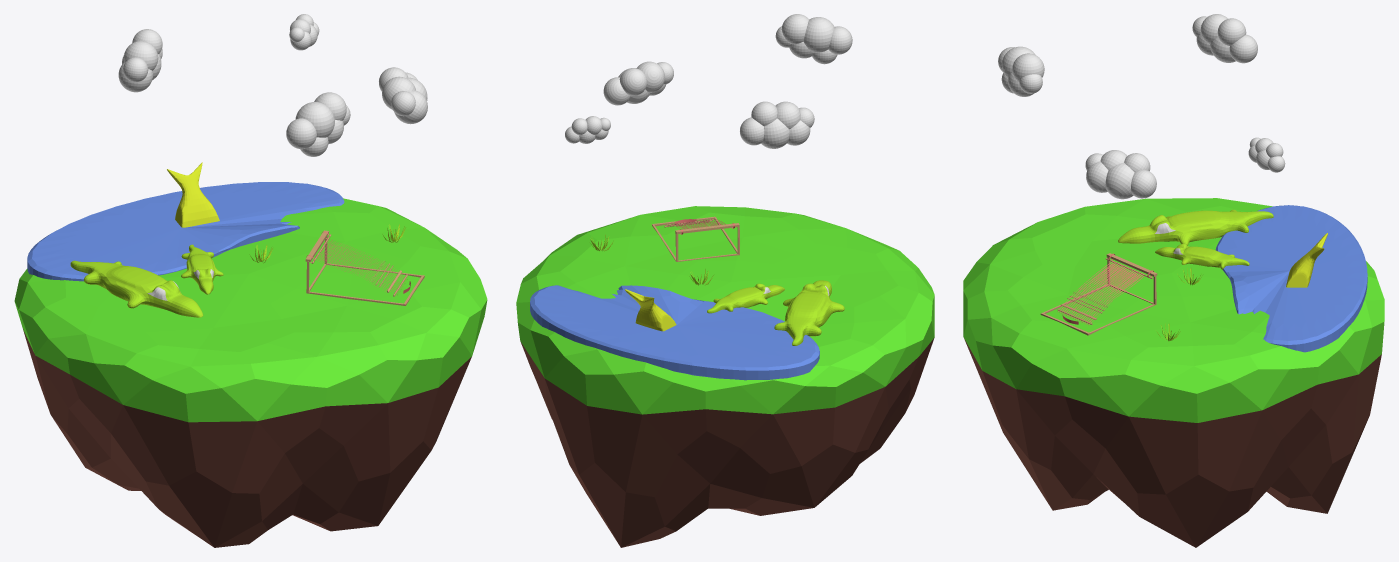
Rendered from Weaver Island.fbx.
The picture shows the model from 3 angles, left to right: view 1: azimuth 30°, elevation 25°; view 2: azimuth 150°, elevation 25°; view 3: azimuth 270°, elevation 25°; orthographic projection. The views are drawn at different scales.
Visible parts, largest first — view 1: Island.003, Cylinder, Cube.002, Cloud.006, Cloud.010, Cloud.012, Cube.001, Cube, Cube.003, SurfCylinder.019, Cloud.011; view 2: Island.003, Cylinder, Cloud.010, Cloud.006, Cube.002, Cloud.012, Cube.003, Cube, Cloud.011, Cube.001; view 3: Island.003, Cylinder, Cube.002, Cloud.012, Cloud.010, SurfCylinder.019, Cloud.006, Cube, Cube.003, Cloud.011, Cube.001.
Part boxes in pixels (x1=…): Island.003: x1=14, y1=198, x2=487, y2=547; Cylinder: x1=27, y1=182, x2=344, y2=281; Cube.002: x1=70, y1=260, x2=203, y2=317; Cloud.006: x1=286, y1=92, x2=350, y2=156; Cloud.010: x1=118, y1=29, x2=162, y2=92; Cloud.012: x1=379, y1=67, x2=427, y2=124; Cube.001: x1=167, y1=162, x2=219, y2=227; Cube: x1=305, y1=230, x2=424, y2=305; Cube.003: x1=181, y1=244, x2=223, y2=294; SurfCylinder.019: x1=306, y1=231, x2=410, y2=295; Cloud.011: x1=289, y1=14, x2=319, y2=50; Island.003: x1=516, y1=206, x2=934, y2=547; Cylinder: x1=530, y1=285, x2=819, y2=380; Cloud.010: x1=740, y1=101, x2=814, y2=148; Cloud.006: x1=775, y1=14, x2=852, y2=64; Cube.002: x1=774, y1=280, x2=844, y2=345; Cloud.012: x1=603, y1=61, x2=673, y2=105; Cube.003: x1=707, y1=283, x2=784, y2=313; Cube: x1=652, y1=216, x2=739, y2=261; Cloud.011: x1=565, y1=116, x2=610, y2=143; Cube.001: x1=625, y1=289, x2=676, y2=331; Island.003: x1=963, y1=198, x2=1384, y2=547; Cylinder: x1=1215, y1=205, x2=1367, y2=352; Cube.002: x1=1118, y1=209, x2=1273, y2=245; Cloud.012: x1=1085, y1=150, x2=1156, y2=199; Cloud.010: x1=1192, y1=14, x2=1257, y2=63; SurfCylinder.019: x1=1058, y1=253, x2=1153, y2=324; Cloud.006: x1=998, y1=46, x2=1044, y2=96; Cube: x1=1040, y1=253, x2=1157, y2=335; Cube.003: x1=1155, y1=243, x2=1249, y2=269; Cloud.011: x1=1248, y1=137, x2=1285, y2=172; Cube.001: x1=1286, y1=233, x2=1327, y2=287.
Size of the model in its own units: 385 by 436 by 374.
